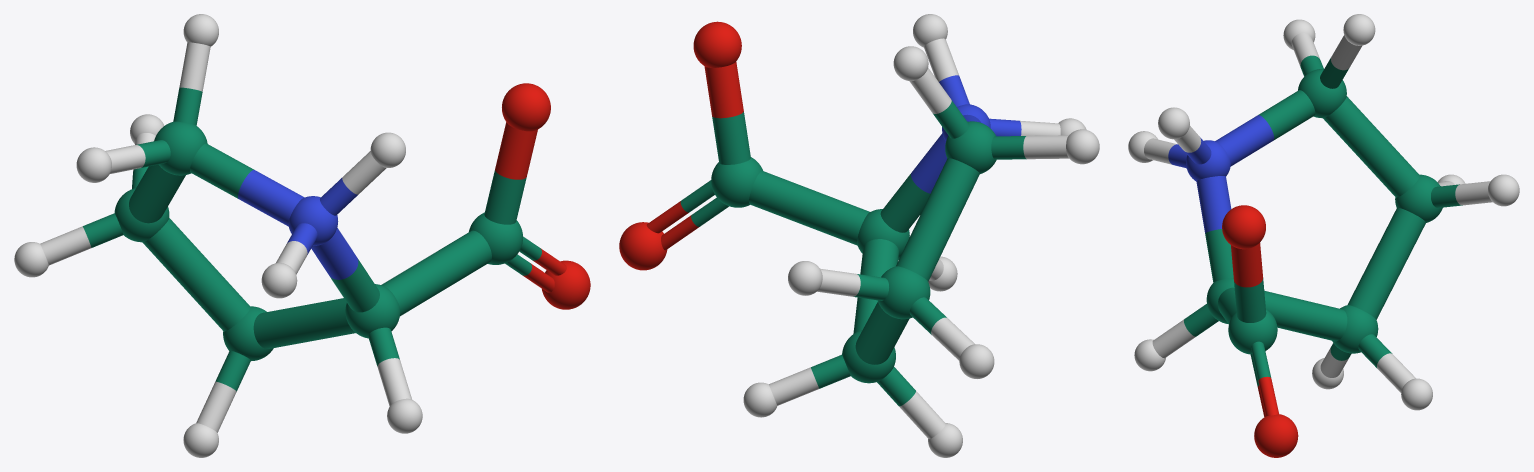
The model's file is PRO.PDB.glb.
The picture shows the model from 3 angles, left to right: view 1: azimuth 30°, elevation 25°; view 2: azimuth 150°, elevation 25°; view 3: azimuth 270°, elevation 25°; orthographic projection. The views are drawn at different scales.
Size of the model in its own units: 5.31 by 4.33 by 4.05.
